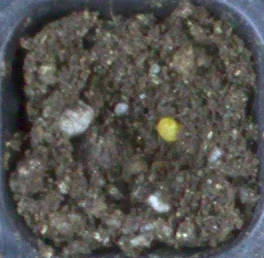pepper seed: (63, 45, 247, 188)
